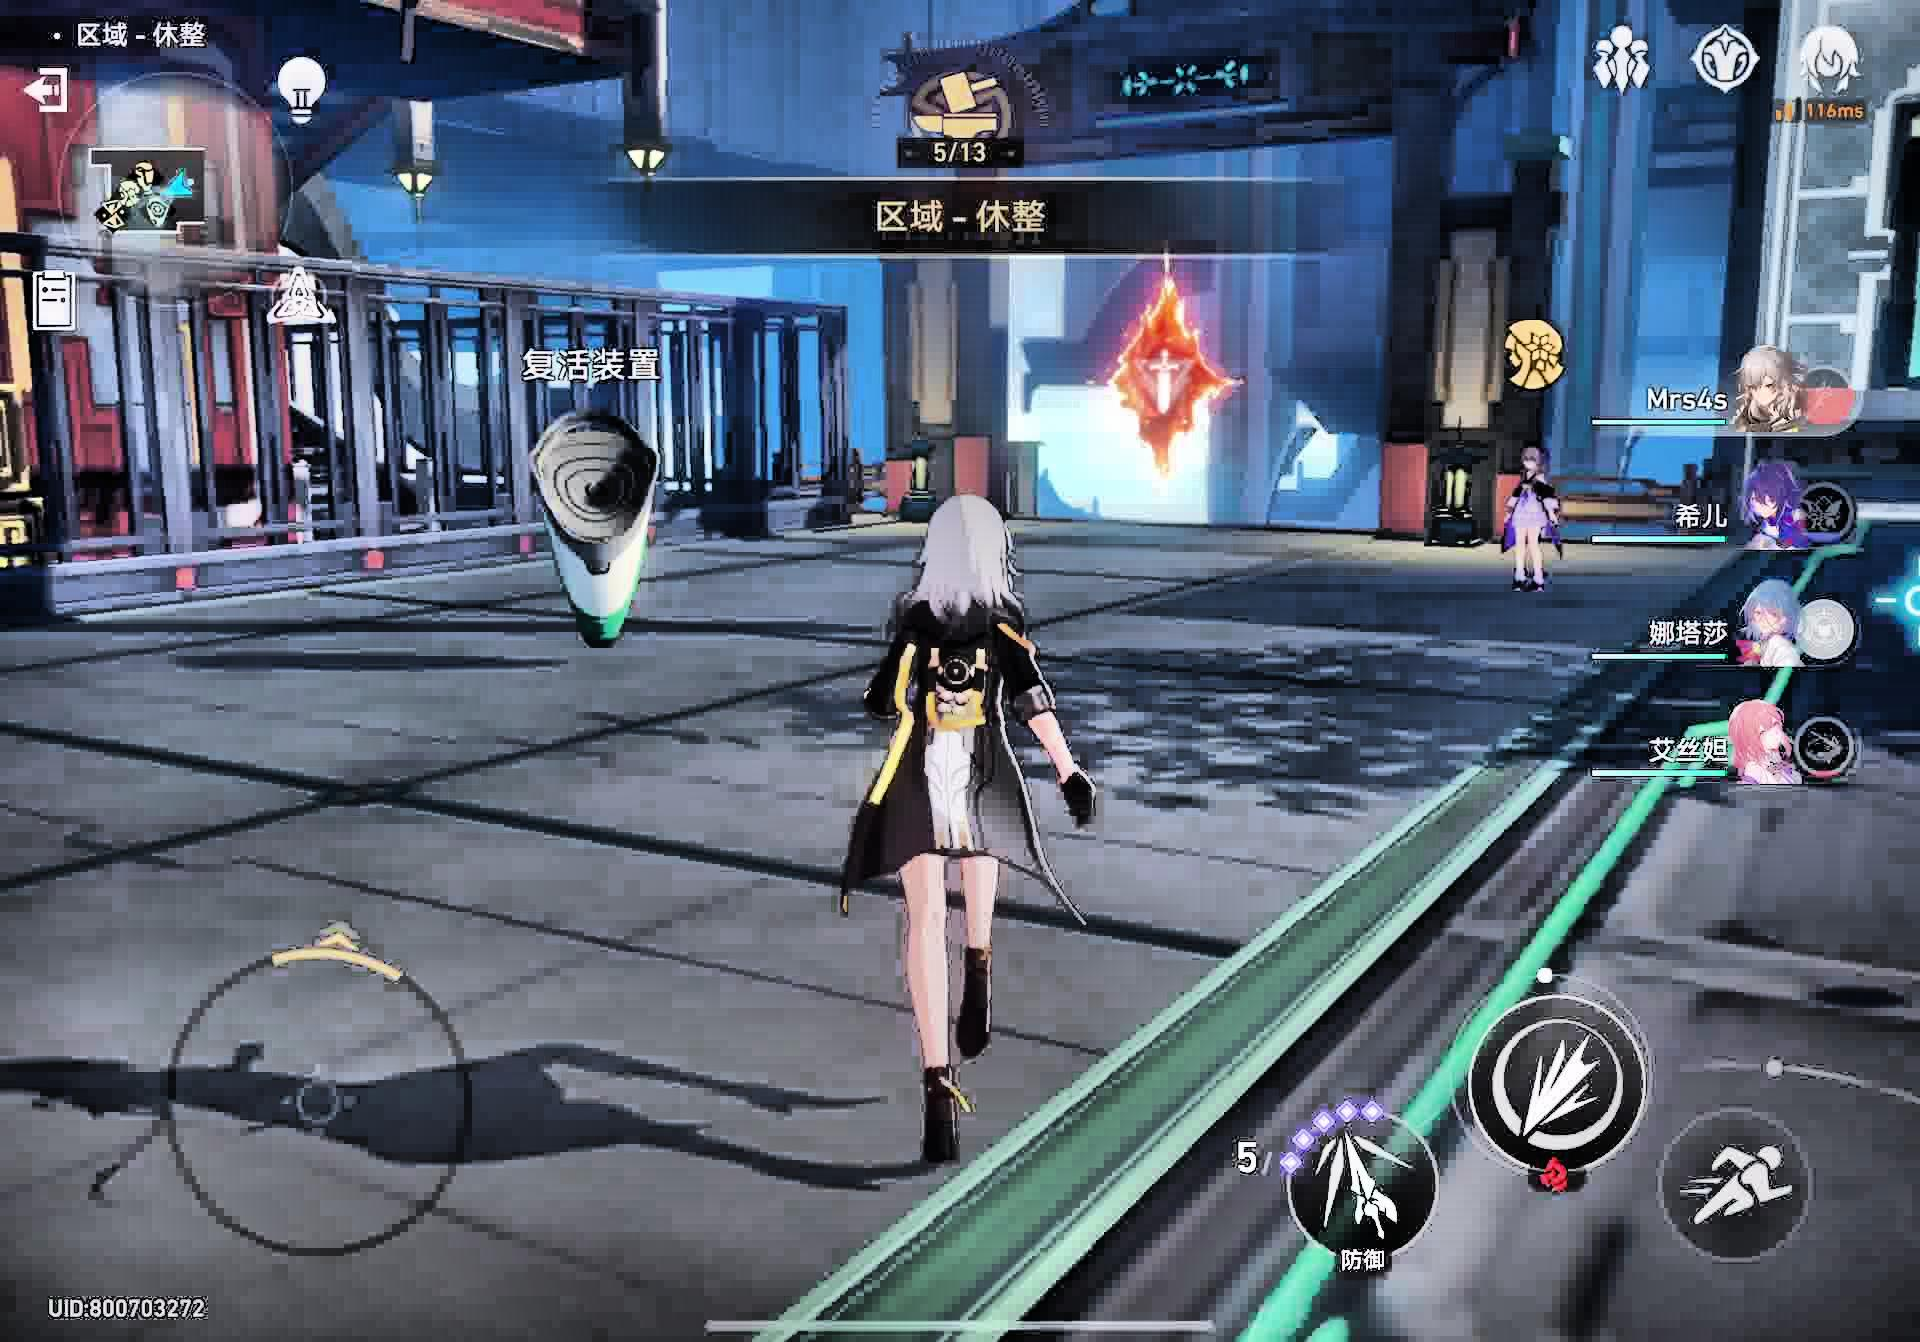BattleDoor: (1109, 287, 1226, 476)
Self: (858, 494, 1104, 1180)
TeamMate: (1498, 443, 1573, 600)
